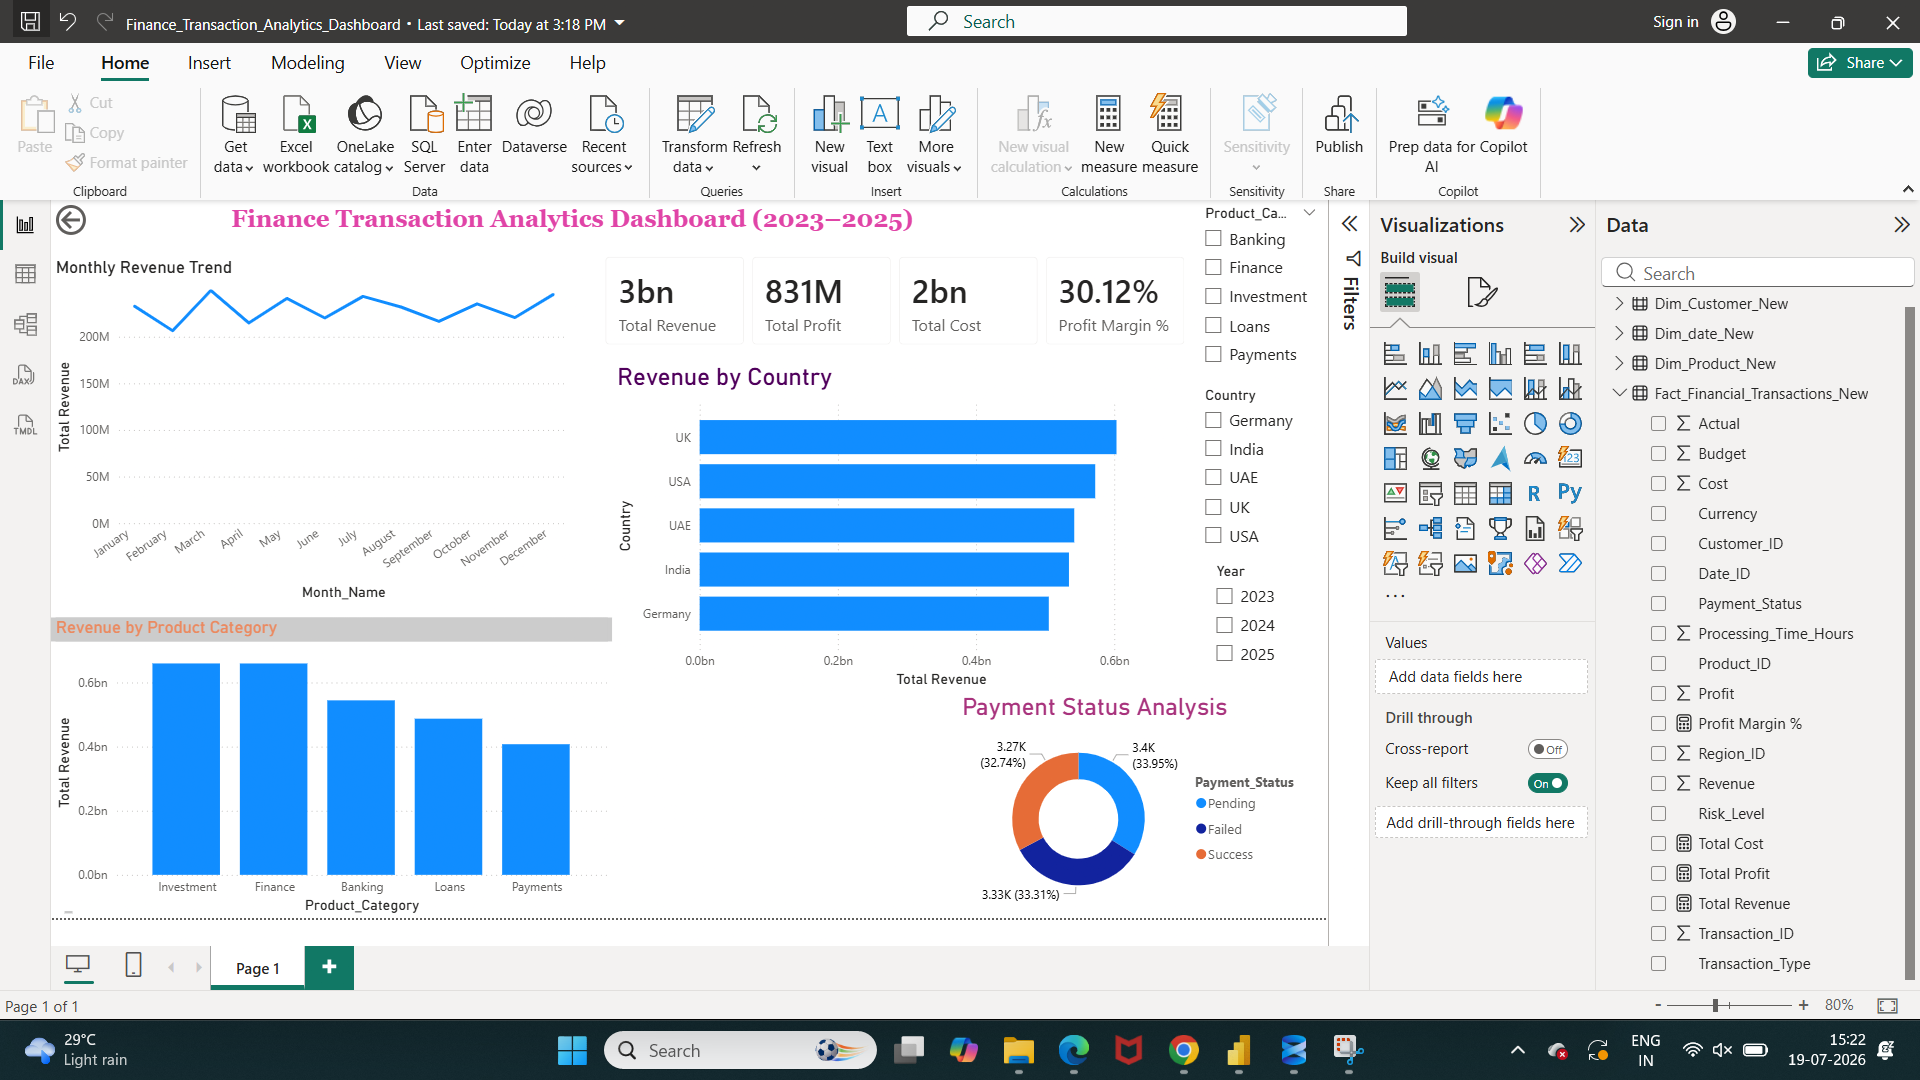

The page's visual inventory and layout, read from the dashboard file:
{"tool":"powerbi","page":{"name":"Page 1","canvas":[1280,720],"ordinal":0},"visuals":[{"type":"slicer","fields":{"Values":["Dim_date_New.Year"]},"box":[1155,358.3,125.3,120.3],"z":0},{"type":"actionButton","box":[0,0,100,40],"z":1000},{"type":"slicer","fields":{"Values":["Dim_Customer_New.Country"]},"box":[1143.7,181.6,136.5,177.9],"z":2000},{"type":"slicer","fields":{"Values":["Dim_Product_New.Product_Category"]},"box":[1143.7,0,136.5,180.4],"z":3000},{"type":"lineChart","title":"Monthly Revenue Trend","fields":{"Y":["Fact_Financial_Transactions_New.Total Revenue"],"Category":["Dim_date_New.Month_Name"]},"box":[0,57.6,523.6,348.2],"z":4000},{"type":"columnChart","title":"Revenue by Product Category","fields":{"Category":["Dim_Product_New.Product_Category"],"Y":["Fact_Financial_Transactions_New.Total Revenue"]},"box":[0,418.4,562.5,301.9],"z":5000},{"type":"clusteredBarChart","title":"Revenue by Country","fields":{"Category":["Dim_Customer_New.Country"],"Y":["Fact_Financial_Transactions_New.Total Revenue"]},"box":[562.5,162.9,592.5,330.7],"z":6000},{"type":"donutChart","title":"Payment Status Analysis","fields":{"Category":["Fact_Financial_Transactions_New.Payment_Status"],"Y":["CountNonNull(Fact_Financial_Transactions_New.Transaction_ID)"]},"box":[908.2,493.6,358.3,226.7],"z":7000},{"type":"textbox","box":[0,707.8,26.3,12.5],"z":8000},{"type":"textbox","box":[50.1,0,904.4,57.6],"z":9000},{"type":"cardVisual","fields":{"Data":["Fact_Financial_Transactions_New.Total Revenue","Fact_Financial_Transactions_New.Total Profit","Fact_Financial_Transactions_New.Total Cost","Fact_Financial_Transactions_New.Profit Margin %"]},"box":[538.7,40.1,616.3,122.8],"z":10000}]}

Visuals, with their boxes on the page's 1280x720 design canvas (x1, y1, x2, y2). These are canvas units, not pixel positions in the 1920x1080 screenshot, which may show the page scaled, cropped or inside an application window:
slicer - Dim_date_New.Year: bbox=[1155, 358, 1280, 479]
actionButton: bbox=[0, 0, 100, 40]
slicer - Dim_Customer_New.Country: bbox=[1144, 182, 1280, 360]
slicer - Dim_Product_New.Product_Category: bbox=[1144, 0, 1280, 180]
"Monthly Revenue Trend" lineChart: bbox=[0, 58, 524, 406]
"Revenue by Product Category" columnChart: bbox=[0, 418, 562, 720]
"Revenue by Country" clusteredBarChart: bbox=[562, 163, 1155, 494]
"Payment Status Analysis" donutChart: bbox=[908, 494, 1266, 720]
textbox: bbox=[0, 708, 26, 720]
textbox: bbox=[50, 0, 954, 58]
cardVisual - Fact_Financial_Transactions_New.Total Revenue x Fact_Financial_Transactions_New.Total Profit: bbox=[539, 40, 1155, 163]
